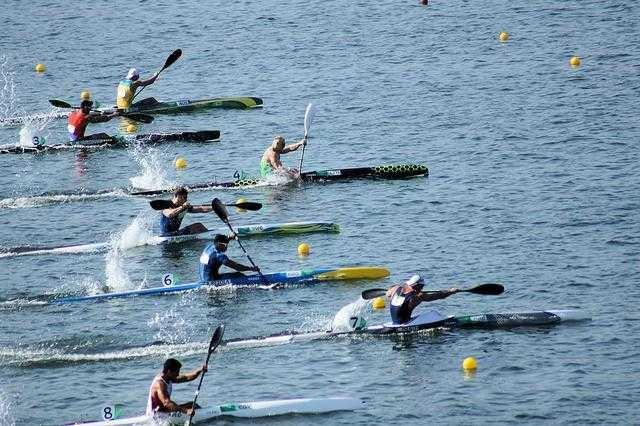kayak: (45, 93, 262, 120)
